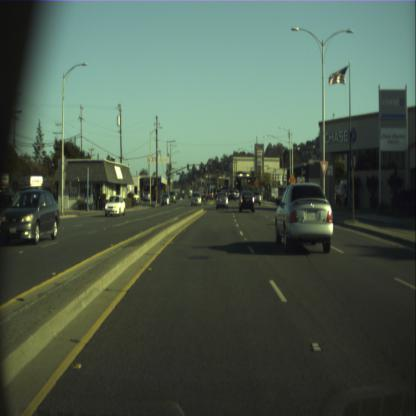Red: (203, 165, 205, 173)
Yellow: (247, 177, 250, 182), (236, 180, 238, 184)
